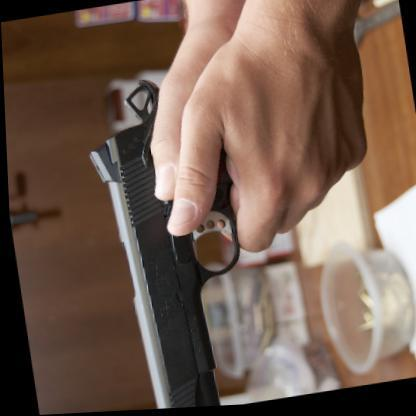pistol: (76, 62, 270, 412)
